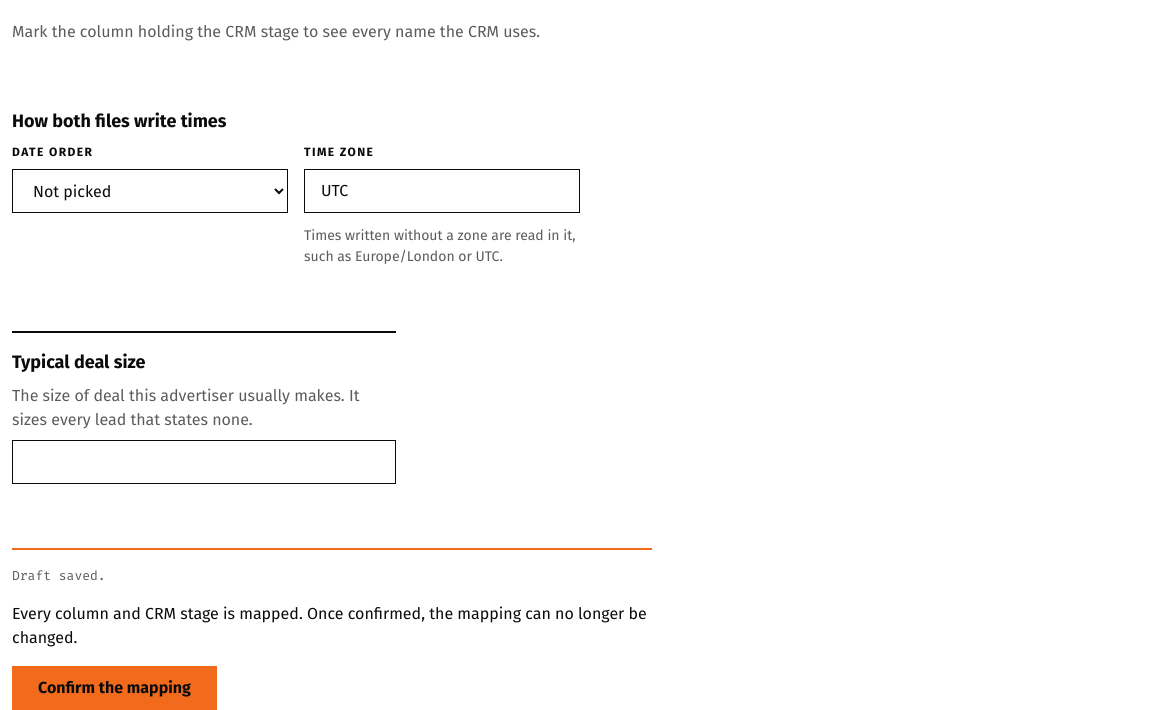
Test: ReviewStep › asks again whether training can run once confirming has formatted the data
(page scrolled)
Click the button "Confirm the mapping" at (114, 688), box [12,666,217,709]
(page scrolled)
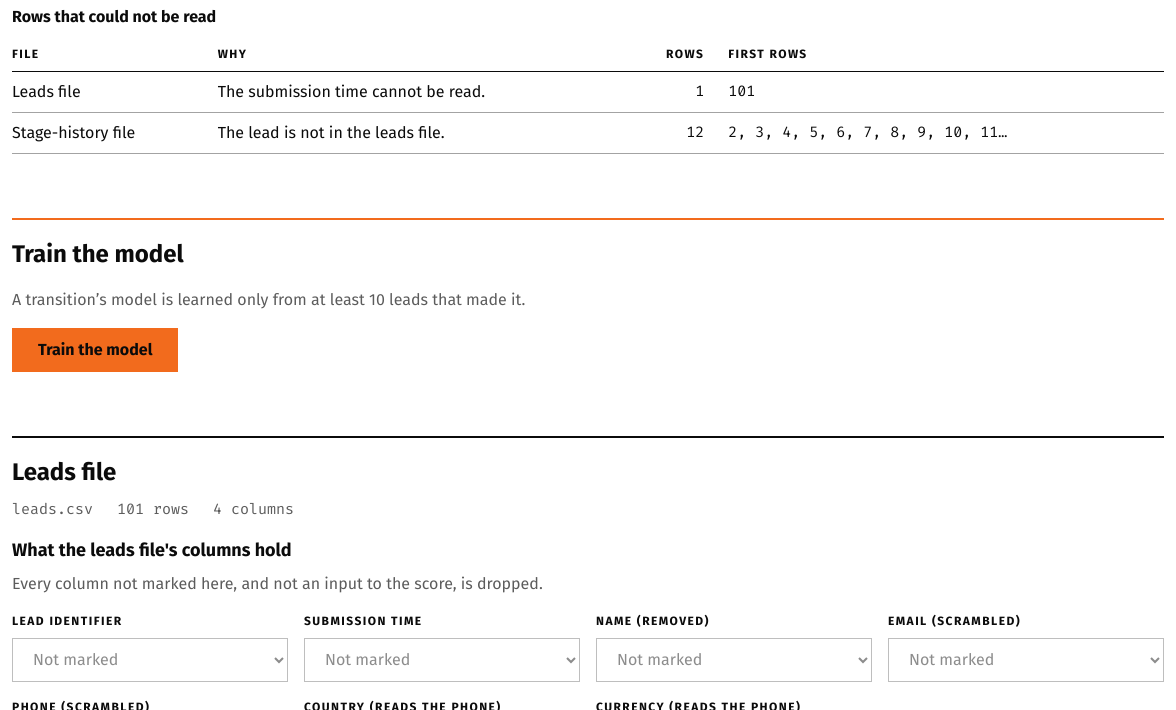
Expected: the button "Train the model" is enabled, [12,328,178,372]
